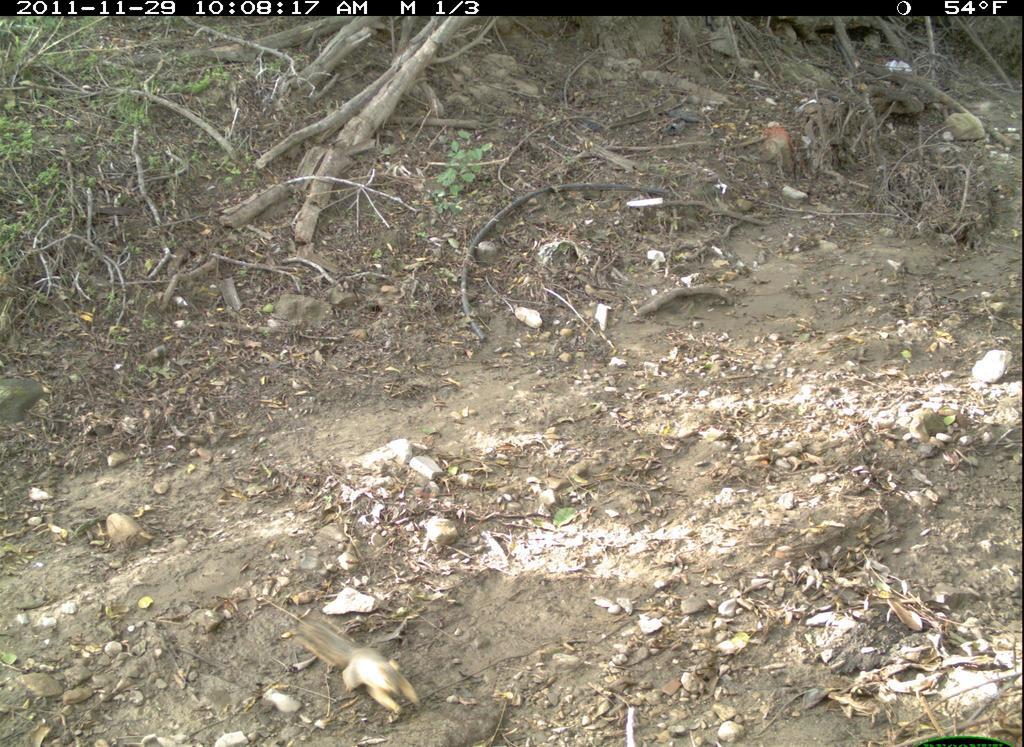squirrel: (287, 612, 436, 726)
